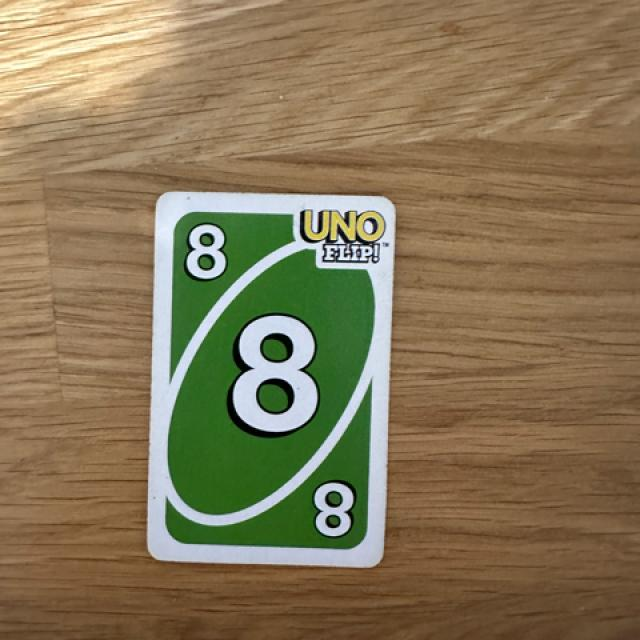lgreen-8: (164, 203, 236, 304)
